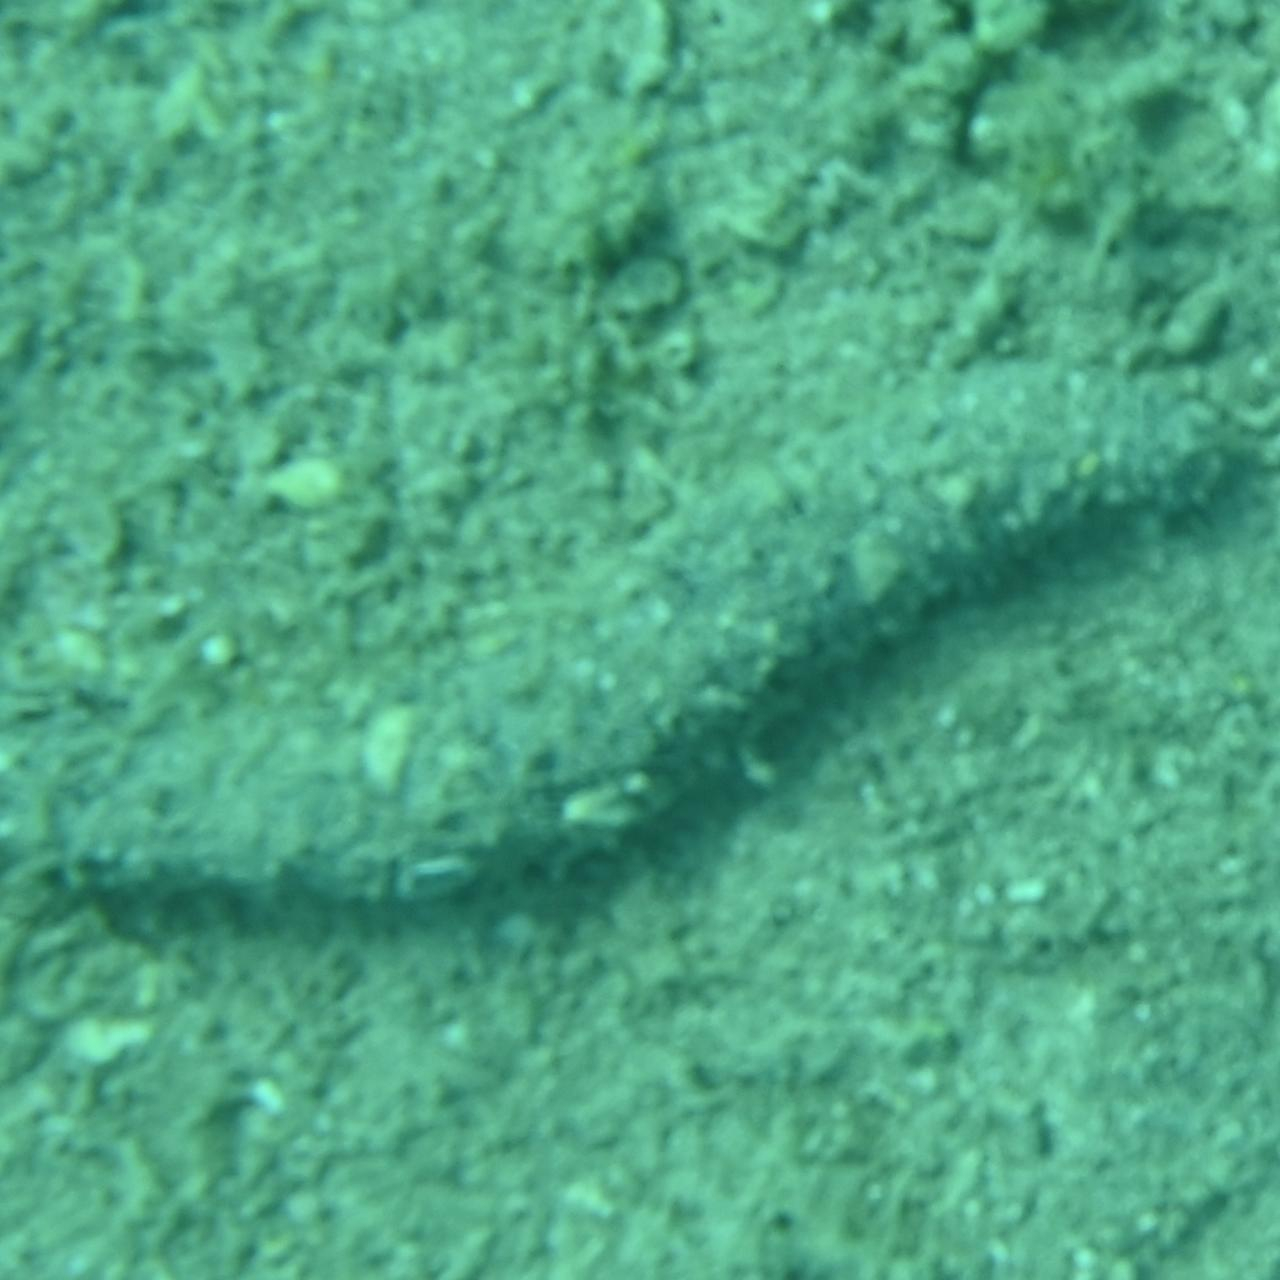Holothuria tubulosa: (0, 344, 1280, 936)
